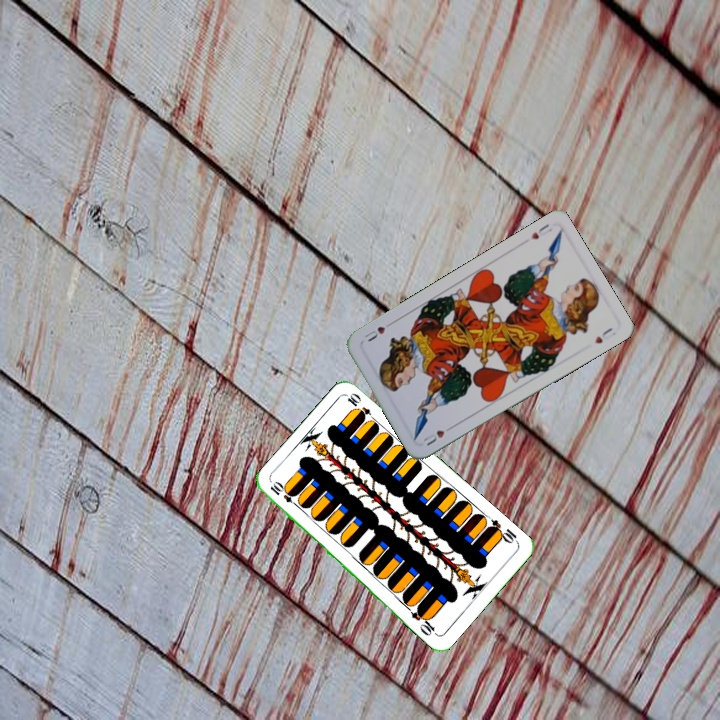E10: (483, 515, 521, 546), (266, 479, 301, 510)
HU: (419, 421, 455, 448), (526, 220, 555, 242)
